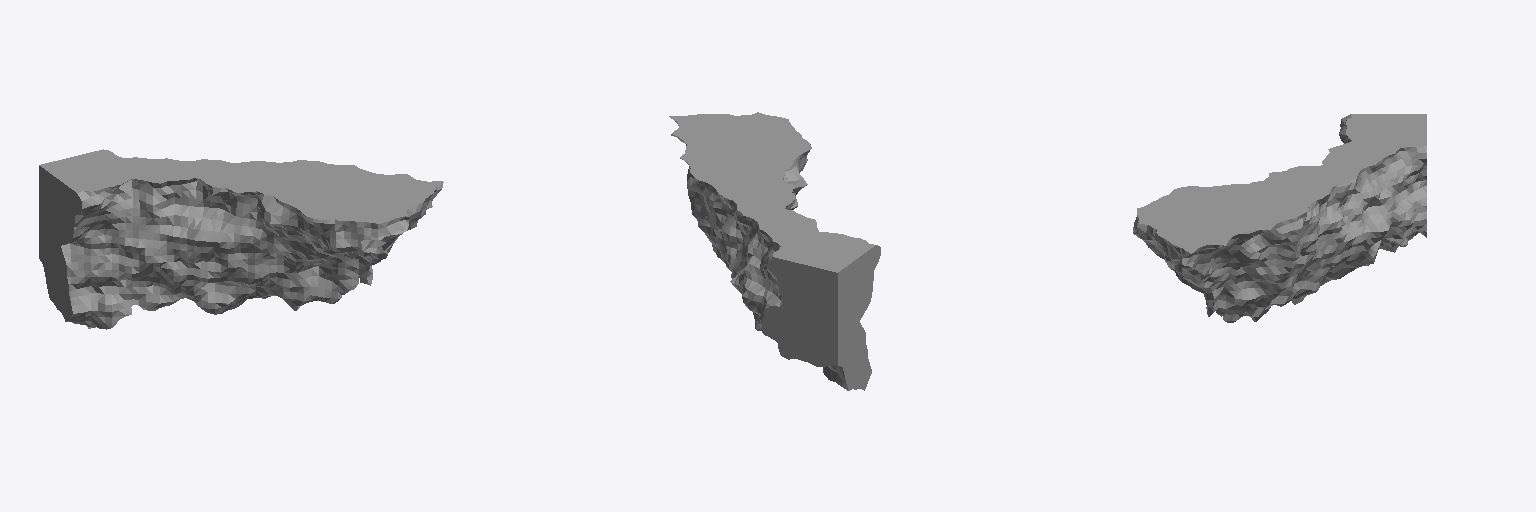
Rendered from cube_20_seed_4_shard.005.obj.
The picture shows the model from 3 angles: view 1: azimuth 30°, elevation 25°; view 2: azimuth 150°, elevation 25°; view 3: azimuth 270°, elevation 25°; orthographic projection.
Visible parts, largest first — view 1: Cube_shard.005_Cube_shard.105; view 2: Cube_shard.005_Cube_shard.105; view 3: Cube_shard.005_Cube_shard.105.
Boxes of the visible parts, x1,y1,x2,y2 form: Cube_shard.005_Cube_shard.105: [39, 149, 443, 329]; Cube_shard.005_Cube_shard.105: [669, 112, 880, 390]; Cube_shard.005_Cube_shard.105: [1133, 114, 1426, 322].
Bounding box in the file's own units: 1.83 × 0.8761 × 1.62.